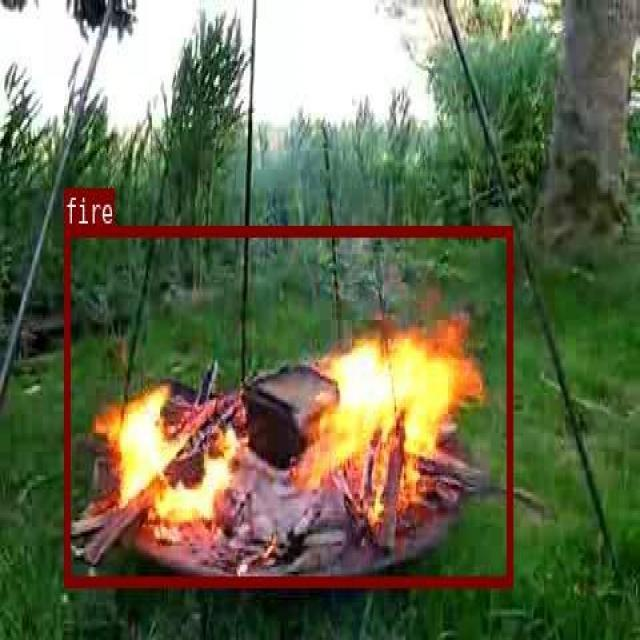fire: (64, 224, 512, 584)
